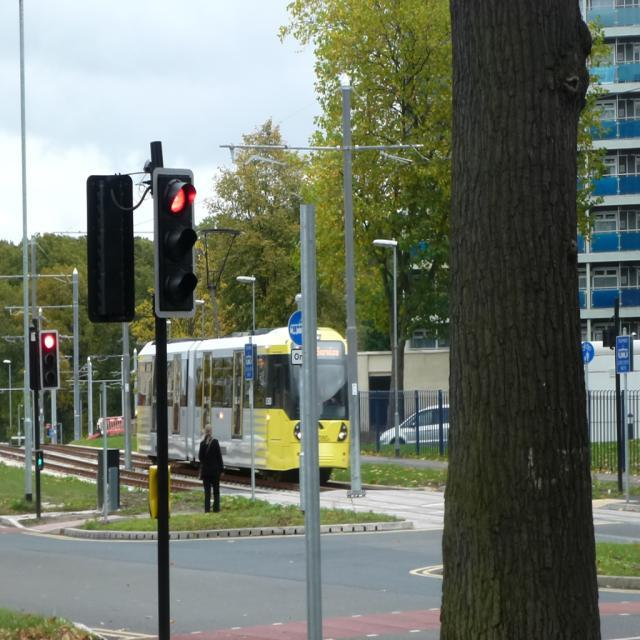traffic light: (156, 173, 198, 312), (40, 333, 58, 389)
